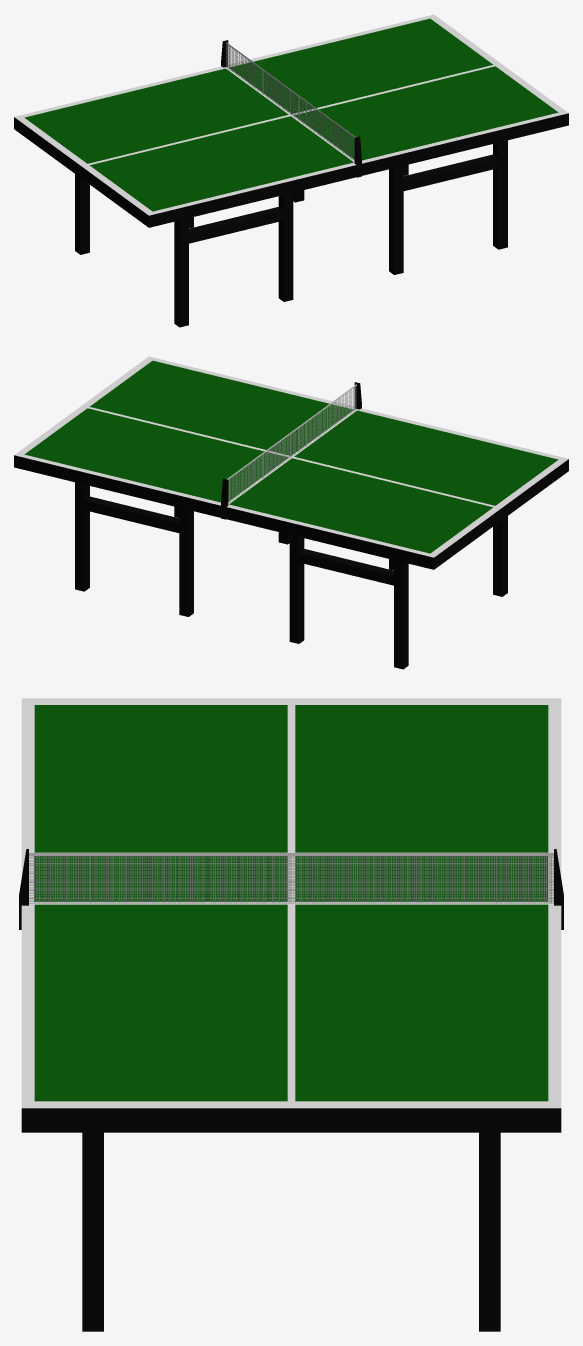
Rendered from pingpongtable.fbx.
3 renders of one model, top to bottom at view 1: azimuth 30°, elevation 25°; view 2: azimuth 150°, elevation 25°; view 3: azimuth 270°, elevation 25°, orthographic. The views are drawn at different scales.
Visible parts, largest first — view 1: tw:pt:pCube17, tw:pt:pCube22, tw:pt:pCube18, tw:pt:pCube26, tw:pt:pCube27, tw:pt:pCube21, tw:pt:pCube23, tw:pt:pCube19; view 2: tw:pt:pCube17, tw:pt:pCube28, tw:pt:pCube25, tw:pt:pCube19, tw:pt:pCube24, tw:pt:pCube29, tw:pt:pCube20, tw:pt:pCube18; view 3: tw:pt:pCube17, tw:pt:pCube20, tw:pt:pCube21, tw:pCube3, tw:pCube31, tw:pCube5, tw:pCube36, tw:pCube10, tw:pCube41.
Part boxes in pixels (bbox=[...]): tw:pt:pCube17: bbox=[14, 14, 568, 227]; tw:pt:pCube22: bbox=[278, 193, 293, 301]; tw:pt:pCube18: bbox=[174, 218, 188, 327]; tw:pt:pCube26: bbox=[182, 207, 292, 243]; tw:pt:pCube27: bbox=[396, 154, 498, 192]; tw:pt:pCube21: bbox=[493, 140, 507, 249]; tw:pt:pCube23: bbox=[389, 166, 403, 274]; tw:pt:pCube19: bbox=[75, 174, 89, 254]; tw:pt:pCube17: bbox=[14, 356, 568, 569]; tw:pt:pCube28: bbox=[76, 496, 186, 534]; tw:pt:pCube25: bbox=[289, 535, 304, 643]; tw:pt:pCube19: bbox=[394, 560, 408, 669]; tw:pt:pCube24: bbox=[179, 508, 193, 616]; tw:pt:pCube29: bbox=[290, 549, 400, 585]; tw:pt:pCube20: bbox=[75, 482, 89, 591]; tw:pt:pCube18: bbox=[493, 516, 507, 596]; tw:pt:pCube17: bbox=[21, 698, 561, 1132]; tw:pt:pCube20: bbox=[479, 1132, 500, 1331]; tw:pt:pCube21: bbox=[82, 1132, 103, 1331]; tw:pCube3: bbox=[29, 852, 553, 855]; tw:pCube31: bbox=[29, 872, 553, 873]; tw:pCube5: bbox=[29, 856, 553, 857]; tw:pCube36: bbox=[29, 880, 553, 881]; tw:pCube10: bbox=[29, 864, 553, 865]; tw:pCube41: bbox=[29, 888, 553, 889].
Size of the model in its own units: 274 by 99.76 by 154.
